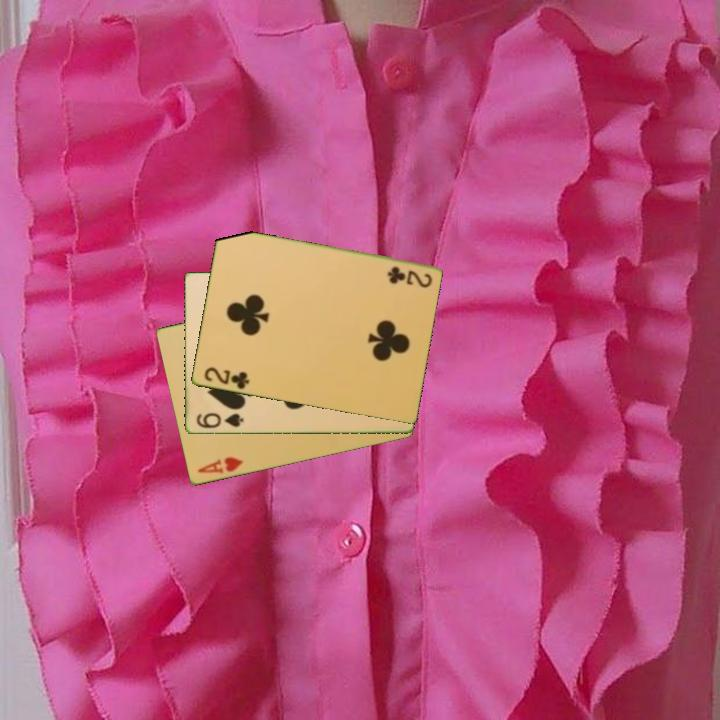2c: (200, 364, 252, 392), (384, 263, 435, 290)
6s: (193, 410, 246, 431)
Ah: (194, 454, 245, 477)
